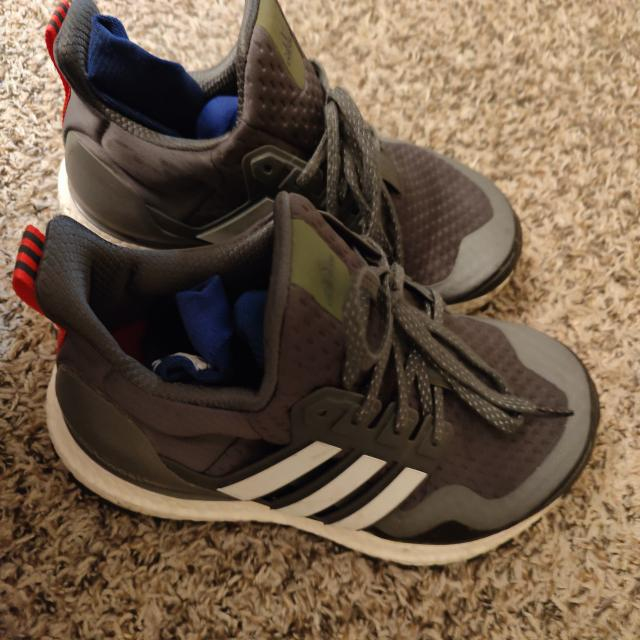black shoes: (23, 5, 522, 556)
